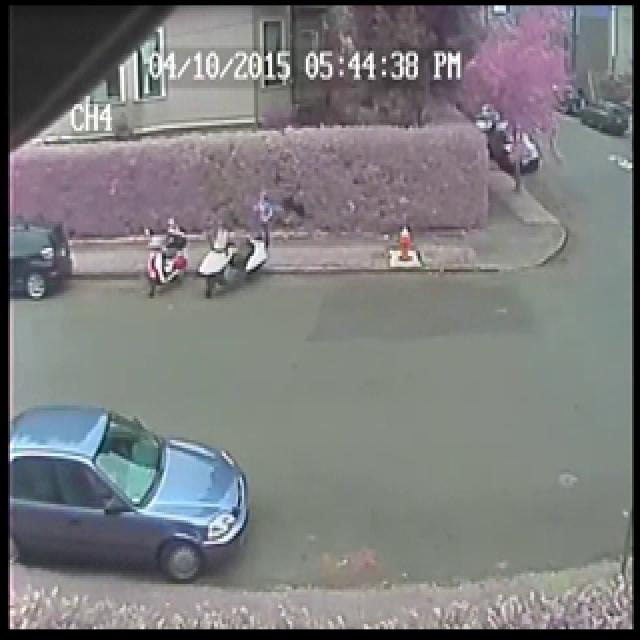vandalism: (257, 199, 563, 566)
